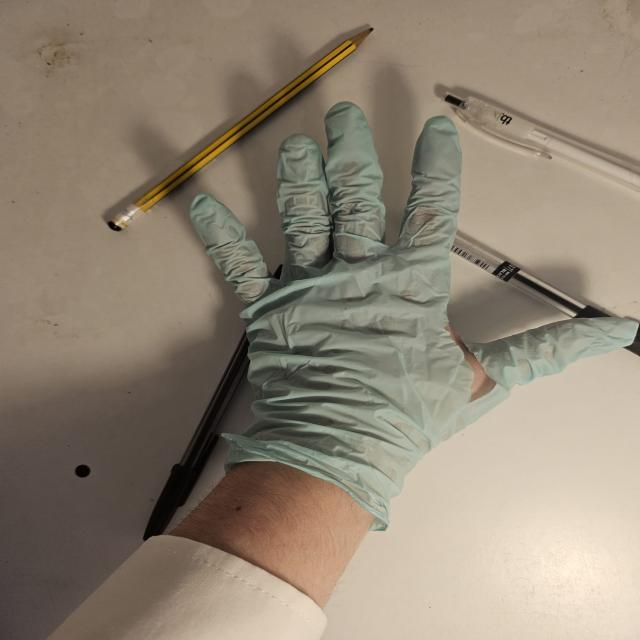gloves_damaged: (181, 94, 640, 505)
